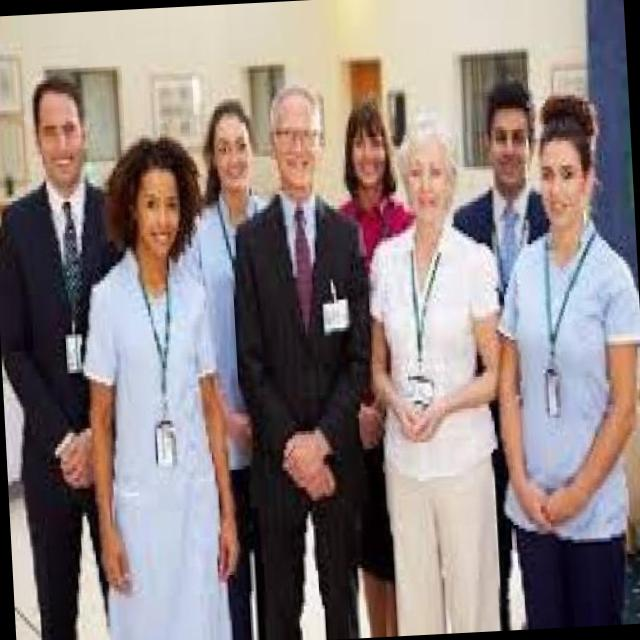id_card: (530, 232, 598, 420), (136, 268, 188, 468), (40, 200, 97, 380), (400, 242, 450, 412), (213, 207, 240, 278), (320, 286, 354, 334)
